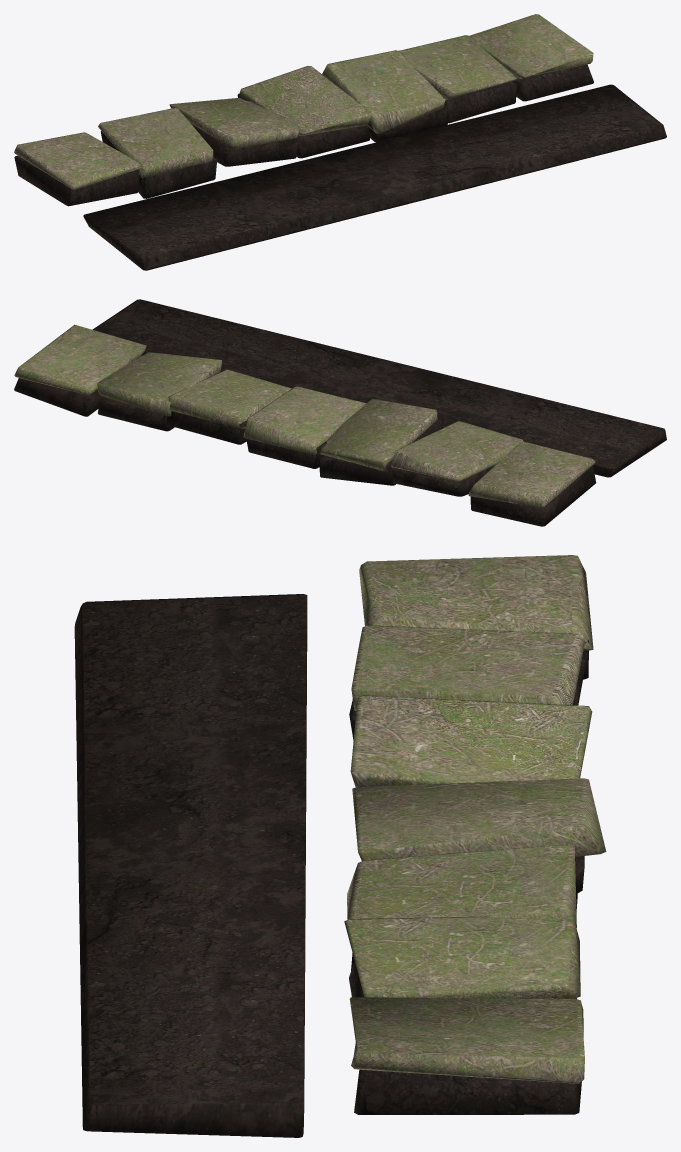
Rendered from kit_lw_sod_row_p.glb.
3 renders of one model, top to bottom at view 1: azimuth 30°, elevation 25°; view 2: azimuth 150°, elevation 25°; view 3: azimuth 270°, elevation 25°, orthographic. The views are drawn at different scales.
Parts seen in each view (by area): view 1: kit_lw_sod_row_p; view 2: kit_lw_sod_row_p; view 3: kit_lw_sod_row_p.
Boxes of the visible parts, x1,y1,x2,y2 form: kit_lw_sod_row_p: [14, 14, 666, 270]; kit_lw_sod_row_p: [14, 299, 666, 526]; kit_lw_sod_row_p: [74, 555, 606, 1137].
Size of the model in its own units: 2.83 by 0.2195 by 1.23.
Materials: 1 (1 with a texture image).
